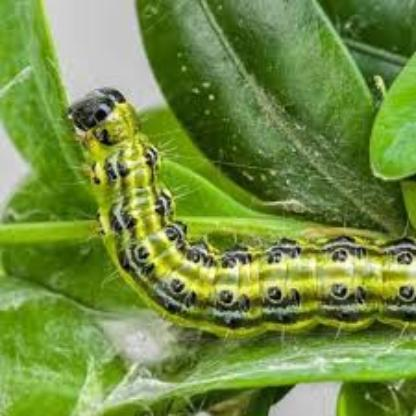oruga: (32, 64, 416, 354)
